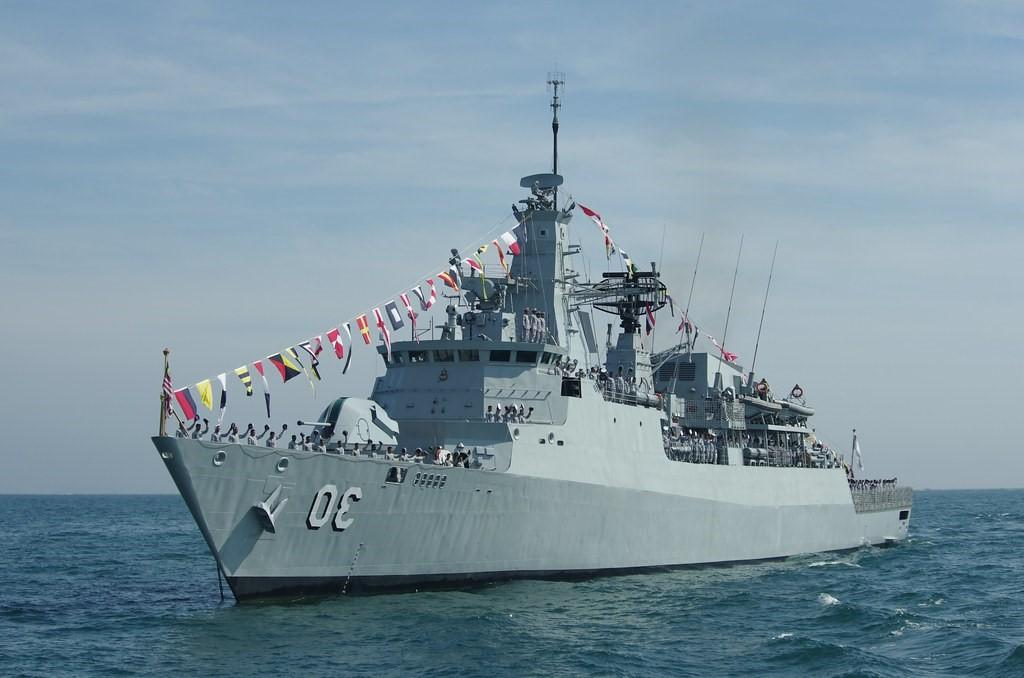Warship: (140, 51, 922, 601)
